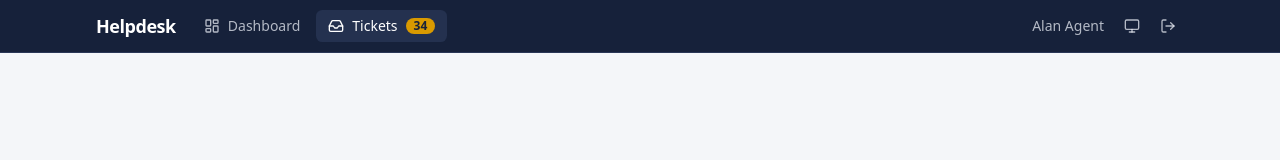
Scenario: NavBar › disables the button while signing out
Click the button named "Sign out". click: [1168, 26]
box: [1152, 10, 1184, 42]
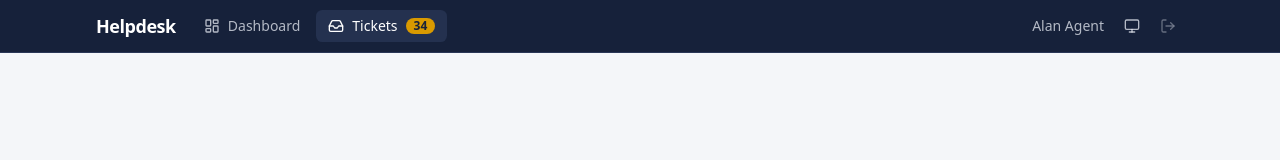
Now the button named "Signing out…" is disabled, box [1152, 10, 1184, 42]
